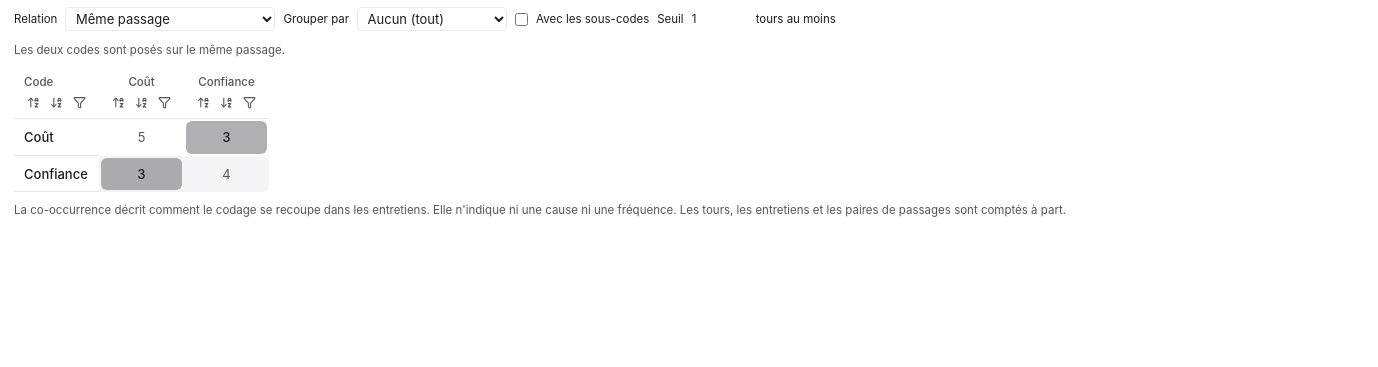
Test case: co-occurrence › prints the counts and lists the passages of a cell
Click the button named "Coût et Confiance : 3 tours": coordinates (226, 138) [186,121,267,154]
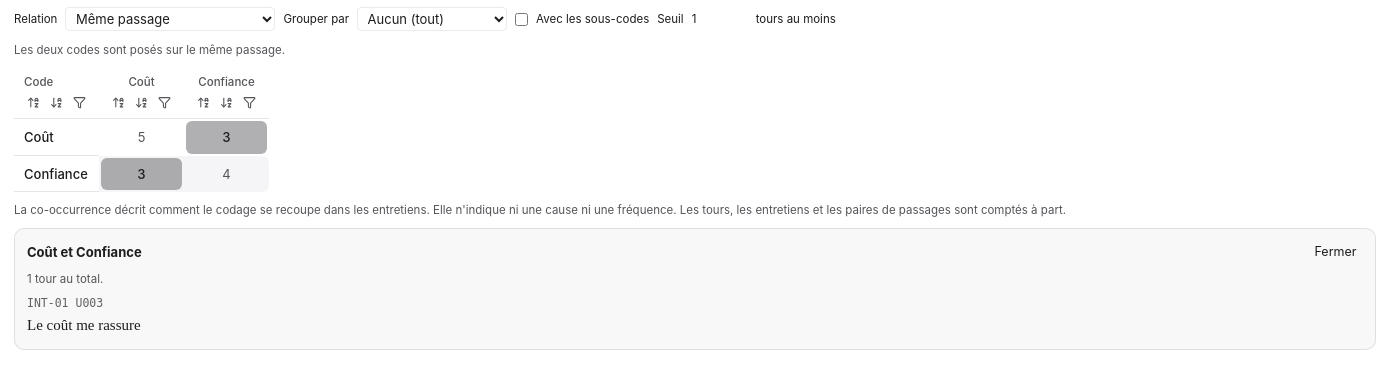
Expected: the text "Le coût me rassure" is shown, [27,317,141,333]
